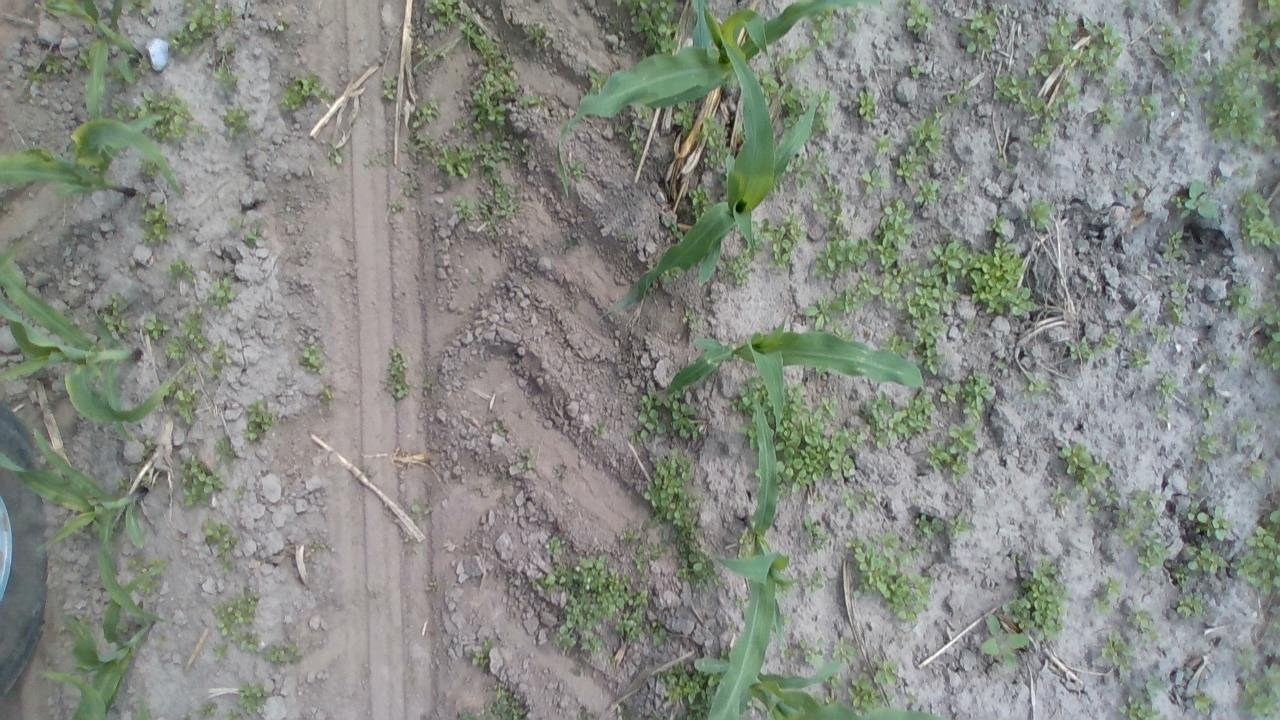Maize: (601, 0, 818, 315), (559, 0, 877, 199), (0, 240, 166, 442), (0, 428, 164, 624), (706, 393, 798, 720), (664, 314, 926, 426), (692, 640, 952, 720), (36, 558, 160, 720), (0, 114, 189, 199), (40, 0, 144, 122), (136, 694, 152, 720)
Weeds: (532, 554, 644, 656), (775, 384, 859, 495), (644, 450, 714, 582), (990, 69, 1084, 156), (851, 532, 935, 620), (1207, 42, 1275, 150), (459, 24, 522, 132), (1104, 483, 1172, 575), (908, 246, 962, 346), (1007, 562, 1070, 640), (966, 240, 1025, 314), (434, 139, 532, 180), (166, 0, 234, 58), (1235, 511, 1280, 592), (801, 220, 858, 282), (1026, 15, 1079, 77), (780, 84, 835, 140), (872, 198, 915, 264), (629, 0, 680, 53), (1084, 574, 1134, 628), (475, 174, 517, 235), (1060, 442, 1110, 490), (1083, 20, 1125, 76), (982, 614, 1028, 665), (1238, 190, 1277, 250), (180, 458, 224, 507), (202, 516, 240, 572), (381, 340, 414, 402), (1063, 329, 1123, 362), (892, 392, 936, 436), (128, 554, 169, 600), (771, 212, 803, 270), (792, 103, 828, 154), (609, 118, 643, 169), (150, 98, 193, 138), (658, 665, 702, 704), (907, 108, 946, 152), (1242, 670, 1277, 718), (1190, 504, 1238, 539), (1181, 181, 1220, 221), (214, 593, 258, 628), (864, 393, 893, 446), (1124, 608, 1161, 648), (962, 14, 999, 54), (1160, 38, 1199, 75), (1099, 632, 1139, 668), (894, 144, 926, 188), (961, 374, 994, 416), (281, 74, 320, 109), (481, 686, 523, 718), (897, 0, 934, 36), (169, 385, 196, 434), (1188, 542, 1228, 575), (878, 266, 912, 304), (181, 306, 210, 349), (203, 332, 230, 378), (848, 674, 884, 708), (224, 216, 262, 248), (706, 115, 728, 170), (1187, 392, 1222, 426), (811, 178, 848, 210), (776, 45, 812, 77), (670, 398, 698, 439), (1226, 280, 1256, 318), (946, 421, 980, 454), (637, 393, 663, 436), (214, 42, 238, 88), (801, 518, 830, 556), (246, 400, 272, 442), (841, 484, 874, 517), (1186, 432, 1221, 463), (466, 637, 494, 675), (908, 509, 942, 540), (1248, 16, 1276, 53), (856, 86, 881, 127), (1046, 484, 1080, 514), (108, 92, 144, 120), (912, 176, 942, 209), (804, 298, 836, 328), (870, 654, 899, 687), (726, 252, 754, 286), (732, 384, 766, 412), (688, 180, 712, 219), (914, 348, 945, 378), (400, 132, 430, 162), (785, 157, 816, 186), (238, 682, 265, 715), (584, 65, 611, 98), (946, 454, 972, 488), (879, 332, 912, 358), (425, 0, 459, 25), (1120, 697, 1158, 719), (142, 206, 168, 238), (1120, 344, 1150, 371), (859, 169, 891, 194), (1012, 286, 1038, 316), (947, 507, 972, 538), (1256, 334, 1278, 369), (858, 272, 882, 304), (1158, 366, 1179, 402), (925, 440, 952, 468), (800, 638, 826, 667), (814, 14, 838, 45), (298, 342, 324, 370), (132, 158, 156, 188), (524, 21, 548, 51), (210, 278, 235, 306), (412, 104, 441, 128), (837, 290, 866, 314), (1026, 199, 1050, 228), (322, 138, 344, 169), (264, 644, 298, 664), (704, 140, 724, 174), (1228, 411, 1256, 435), (188, 696, 216, 720), (648, 618, 668, 650), (752, 215, 772, 247), (884, 690, 919, 708), (211, 432, 232, 462), (144, 315, 170, 339), (208, 643, 232, 669), (662, 214, 685, 241), (1242, 458, 1268, 481), (103, 312, 129, 335), (832, 638, 858, 661), (222, 107, 248, 130), (450, 194, 472, 221), (690, 691, 710, 720), (870, 133, 890, 162), (1164, 226, 1182, 258), (168, 260, 194, 282), (1176, 593, 1203, 614), (45, 54, 69, 77), (1021, 376, 1046, 398), (732, 528, 749, 560), (230, 633, 258, 652), (618, 523, 640, 547), (938, 382, 960, 406), (674, 101, 694, 127), (804, 566, 824, 592), (1138, 94, 1160, 117), (759, 72, 783, 93), (948, 80, 969, 104), (1258, 302, 1276, 330), (588, 419, 610, 441), (983, 212, 1005, 234), (382, 72, 398, 102), (1164, 301, 1184, 324), (132, 0, 156, 19), (516, 94, 540, 113), (104, 290, 120, 318), (740, 423, 756, 451), (490, 417, 510, 439), (1096, 104, 1116, 126), (1192, 692, 1214, 712), (1150, 322, 1170, 344), (846, 10, 861, 39), (26, 66, 44, 90), (1236, 649, 1256, 670), (648, 709, 686, 720), (950, 172, 969, 194), (138, 437, 156, 460), (1236, 162, 1256, 182), (1122, 314, 1142, 334), (630, 102, 649, 123), (547, 534, 565, 556), (1170, 562, 1188, 584), (401, 174, 418, 197), (682, 306, 698, 330), (662, 267, 682, 286), (1156, 404, 1174, 425), (1144, 676, 1162, 696), (994, 156, 1014, 174), (1170, 280, 1190, 298), (1226, 350, 1244, 370), (384, 199, 405, 216), (1172, 0, 1194, 16), (316, 382, 332, 404), (1196, 374, 1218, 390), (1270, 604, 1280, 638), (1085, 494, 1098, 520), (1152, 22, 1176, 36), (1211, 173, 1227, 194), (1106, 80, 1124, 98), (113, 474, 130, 493), (990, 354, 1009, 371), (962, 316, 976, 339), (1186, 474, 1202, 494), (274, 16, 294, 32), (420, 379, 436, 399), (468, 265, 483, 286), (618, 702, 635, 720), (618, 231, 638, 246), (306, 534, 321, 554), (516, 452, 532, 470), (1120, 178, 1136, 196), (411, 41, 428, 57), (1254, 0, 1280, 10), (908, 66, 924, 82), (783, 644, 795, 664), (1170, 194, 1184, 211), (729, 594, 743, 609), (778, 610, 792, 625), (232, 484, 245, 500), (701, 673, 716, 686), (410, 502, 423, 516), (578, 707, 592, 720), (224, 707, 238, 720), (136, 60, 149, 74), (619, 250, 631, 265), (154, 634, 168, 646), (1204, 350, 1218, 361), (426, 582, 438, 594), (570, 236, 578, 252), (373, 463, 389, 471), (814, 498, 827, 505), (572, 174, 584, 181)
